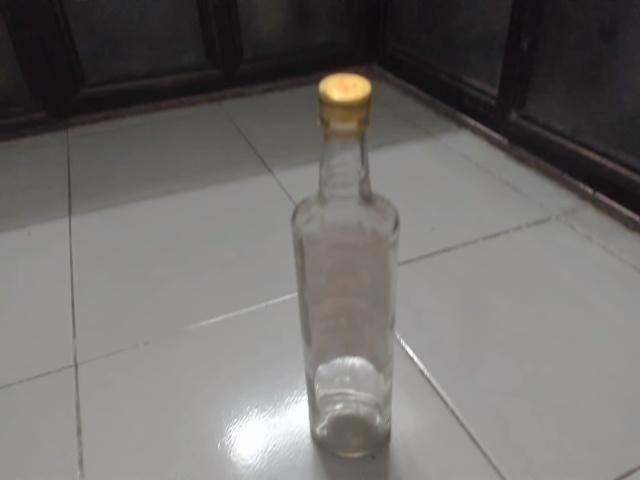botol_kaca: (284, 67, 412, 466)
